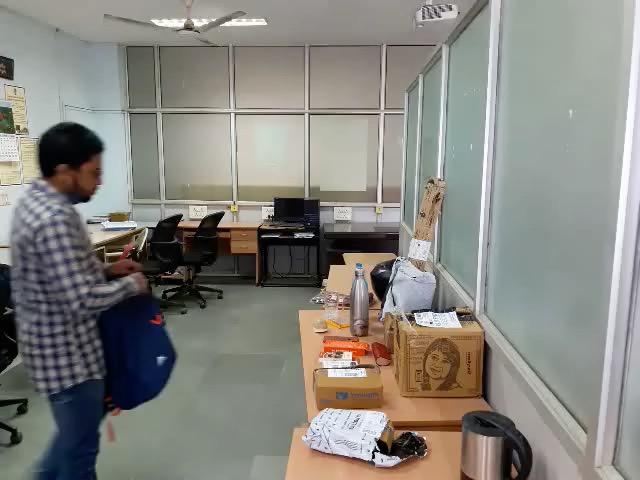shoplifting: (0, 247, 202, 390)
